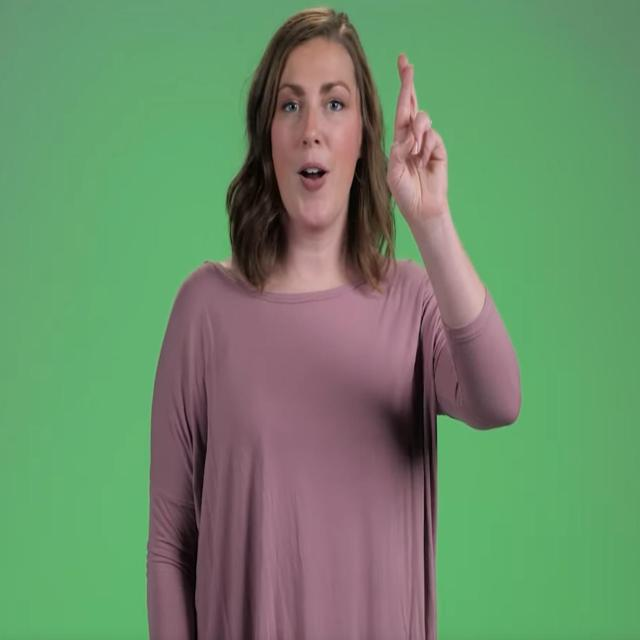R: (384, 50, 454, 227)
